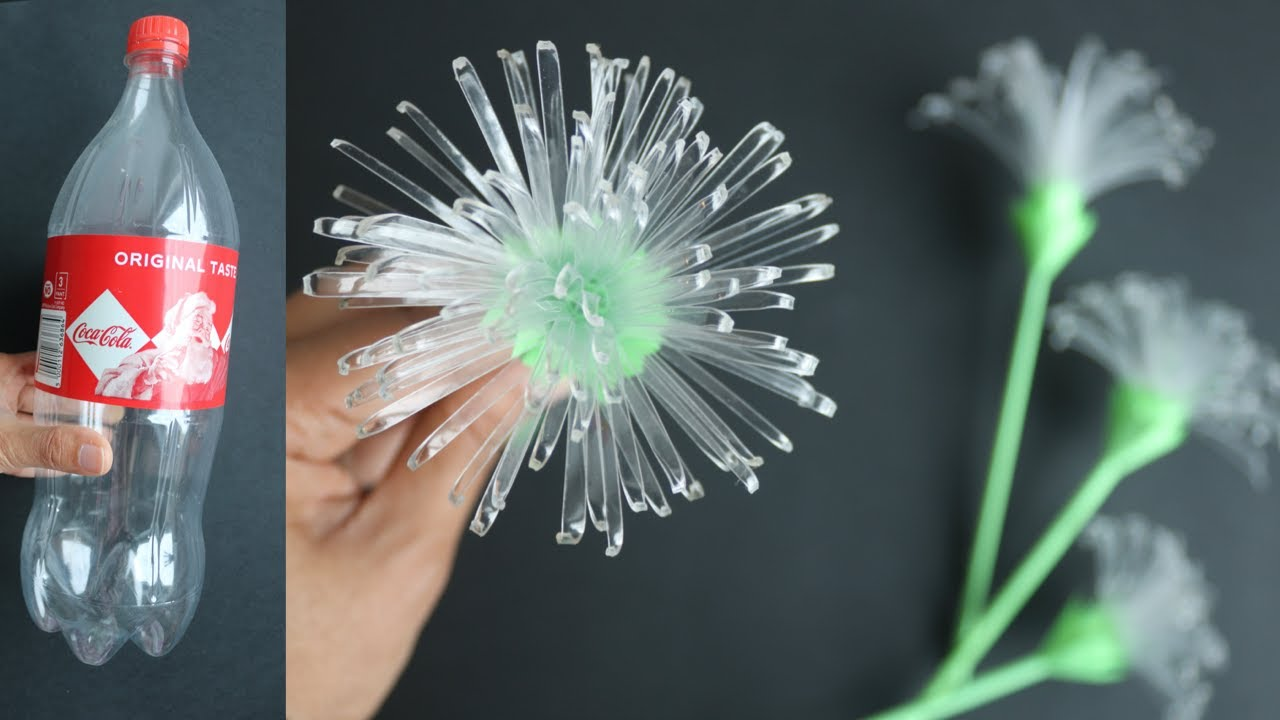plastic_bottle: (31, 13, 241, 686)
